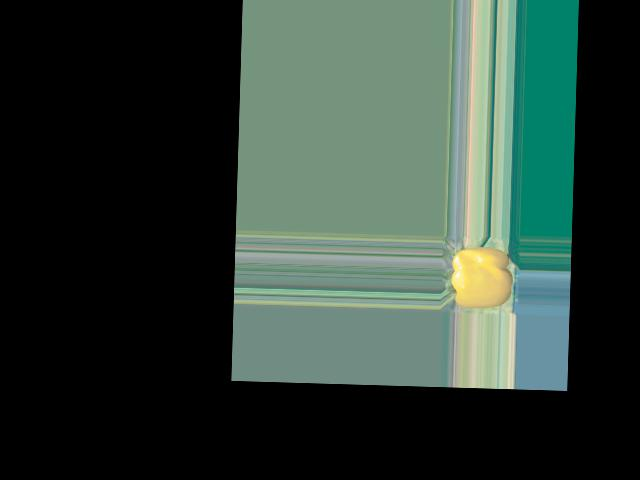bell_pepper: (444, 241, 514, 313)
